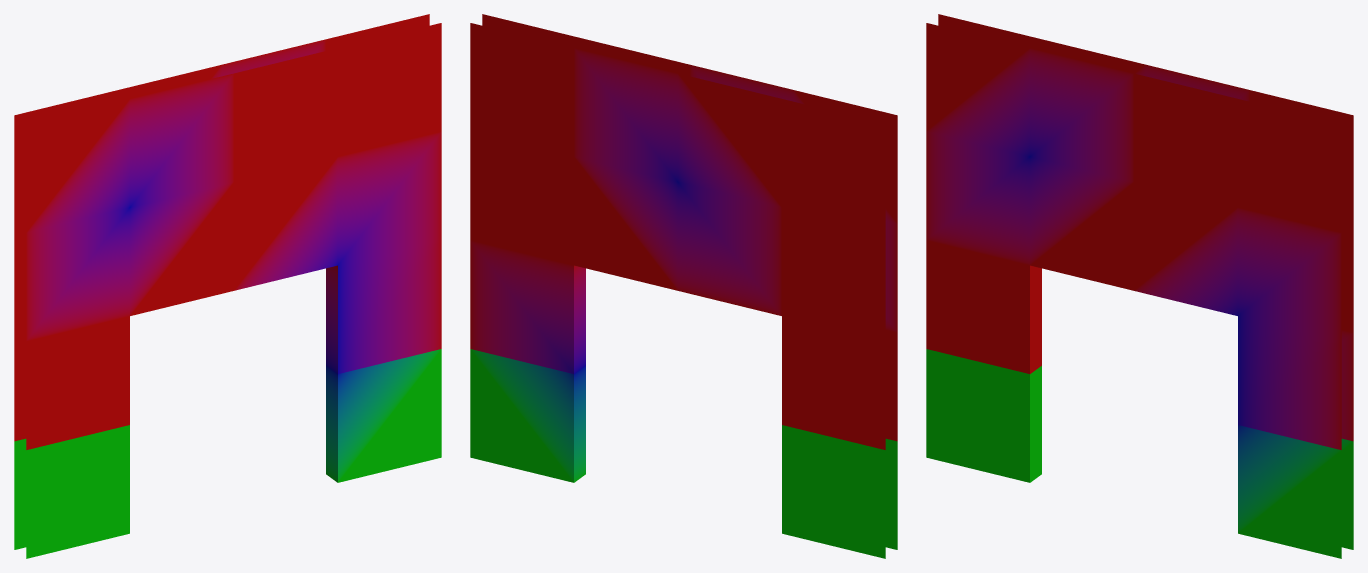
Rendered from PortalB_8x8.fbx.
3 views of the same model, side by side, from view 1: azimuth 30°, elevation 25°; view 2: azimuth 150°, elevation 25°; view 3: azimuth 330°, elevation 25° (orthographic).
Parts seen in each view (by area): view 1: Plane.001; view 2: Plane.001; view 3: Plane.001.
Part boxes in pixels (x1,y1,x2,y2): Plane.001: (14,14,441,558); Plane.001: (470,14,897,558); Plane.001: (926,14,1353,558).
Size of the model in its own units: 800 by 800 by 40.
